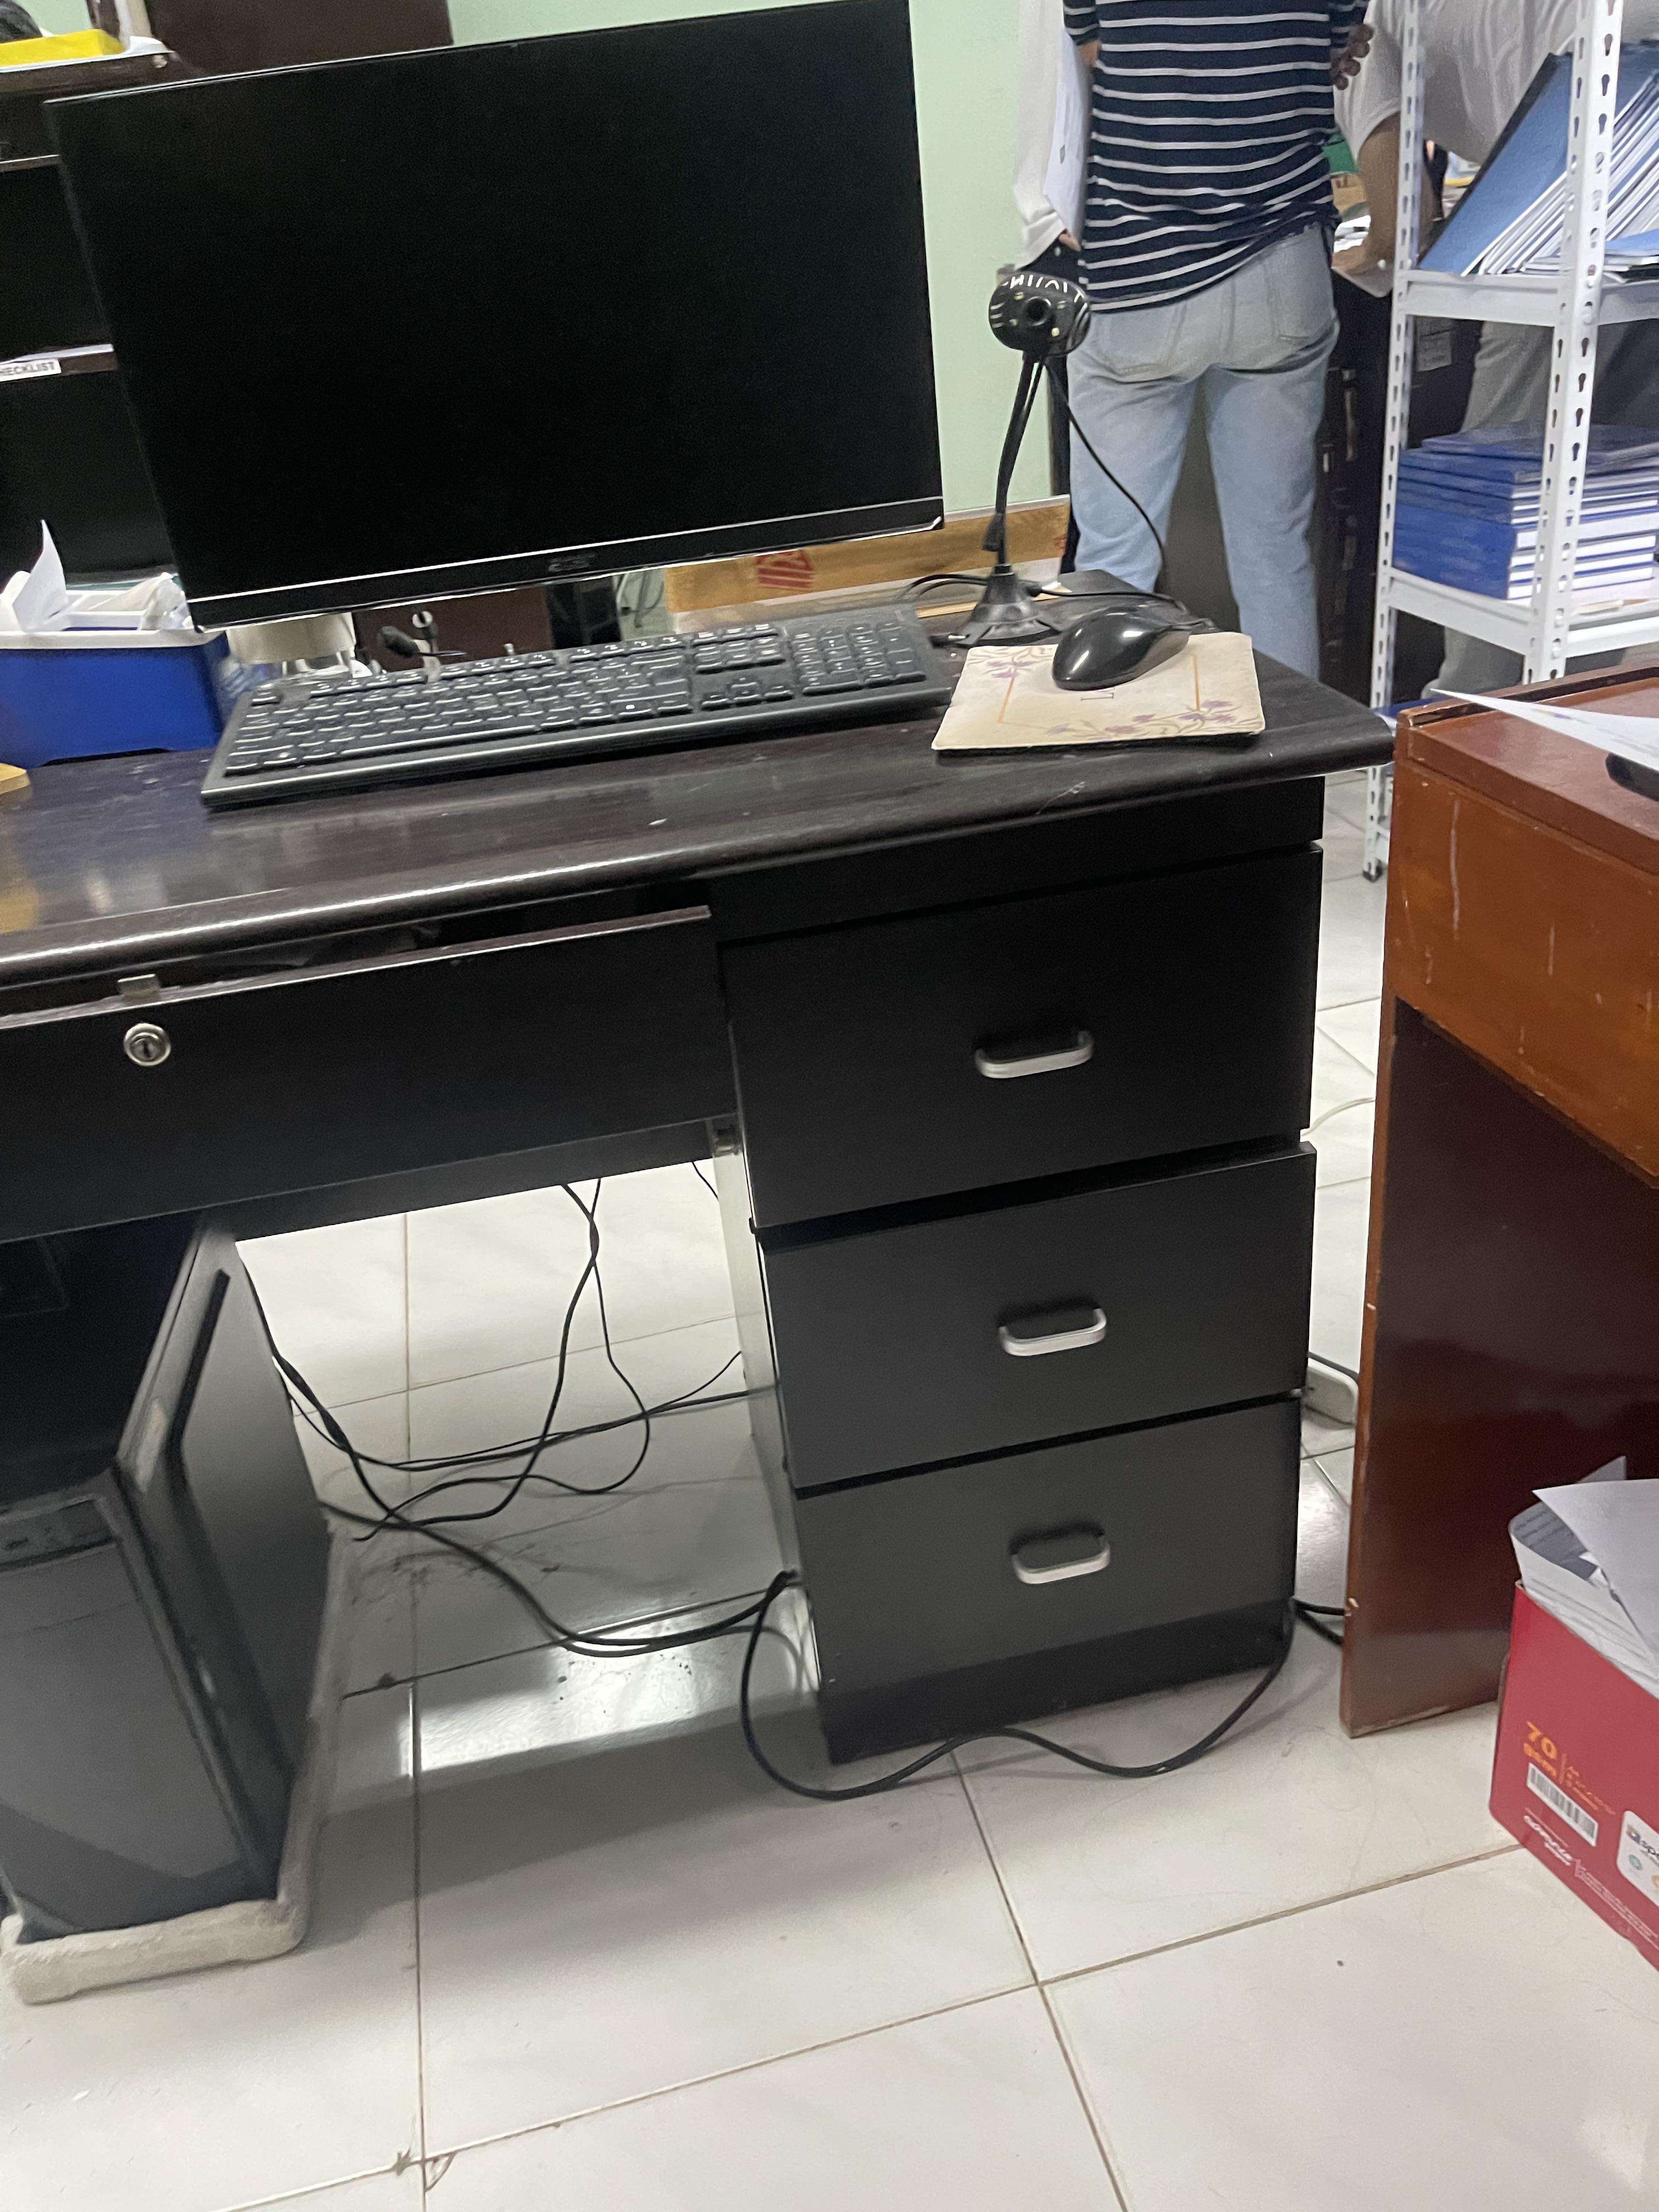table1: (0, 566, 1408, 2017)
